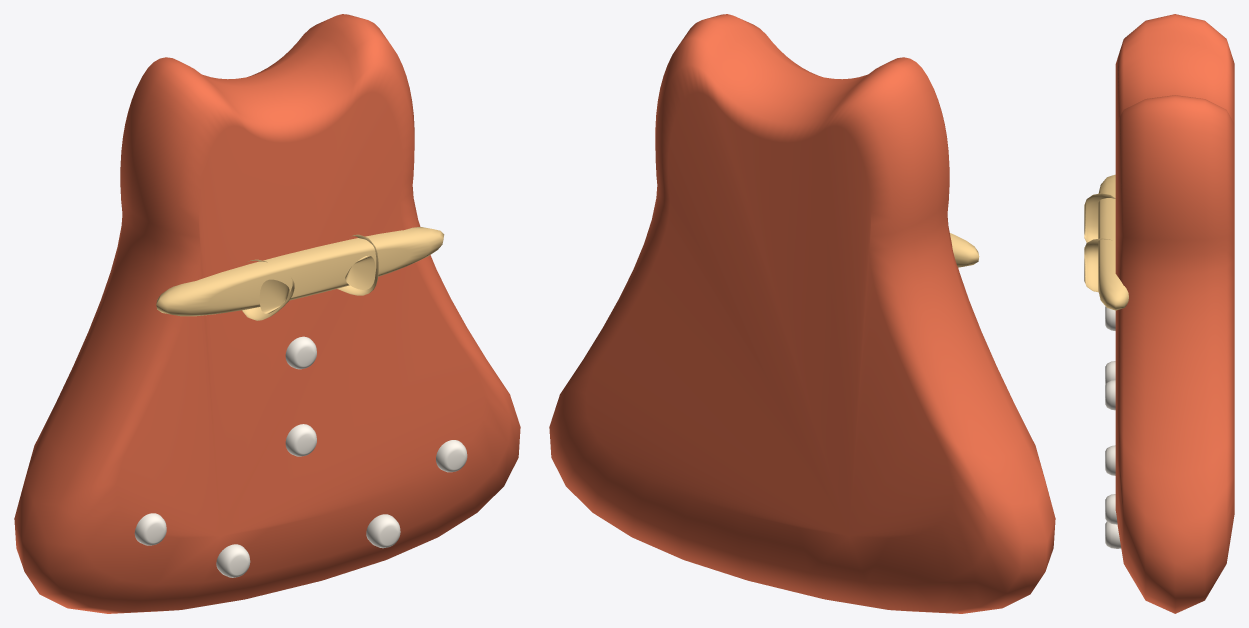
Rendered from vestido.glb.
3 views of the same model, side by side, from view 1: azimuth 30°, elevation 25°; view 2: azimuth 150°, elevation 25°; view 3: azimuth 270°, elevation 25° (orthographic). The views are drawn at different scales.
Parts seen in each view (by area): view 1: vestido; view 2: vestido; view 3: vestido.
Part boxes in pixels (x1,y1,x2,y2): vestido: (14, 14, 520, 613); vestido: (549, 14, 1055, 613); vestido: (1084, 14, 1234, 613).
Bounding box in the file's own units: 1.47 × 1.57 × 0.43.
